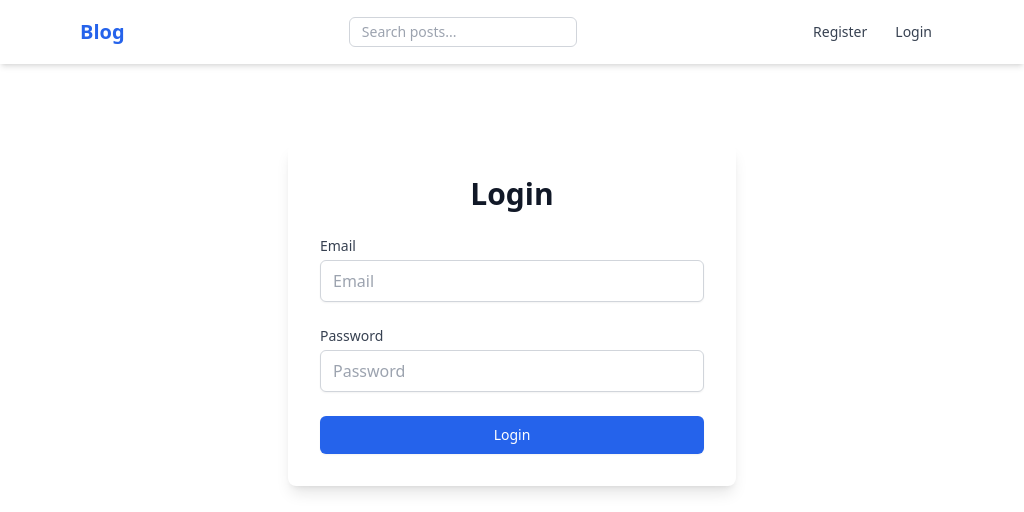
Test: Feature: Full-Text Search › allows a user to type in the navbar search, press Enter, and see results
// Find the (not-yet-created) search bar in the navbar
Type "pipeline" into the search field named "search" at (463, 32), box [349,17,577,47]
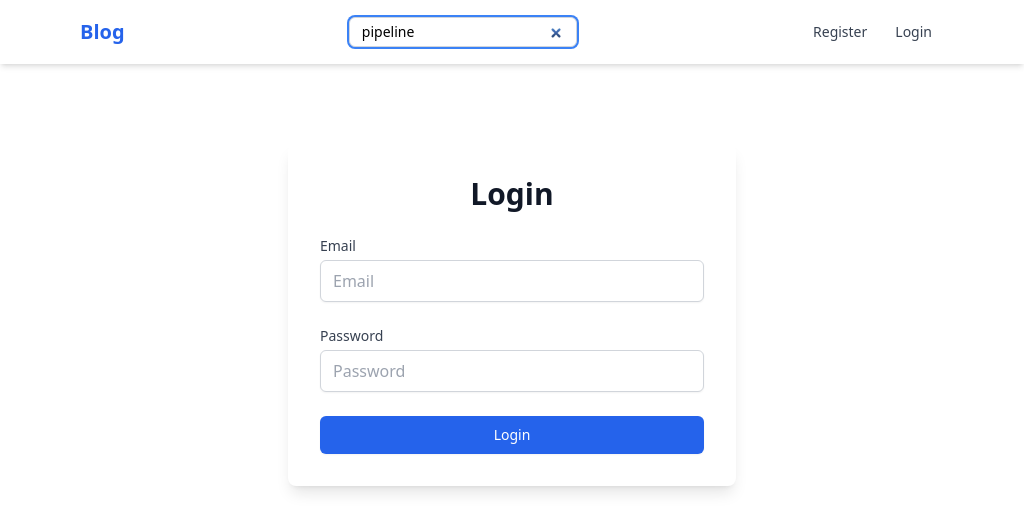
// Press Enter to submit
Press Enter in the search field named "search", box [349,17,577,47]
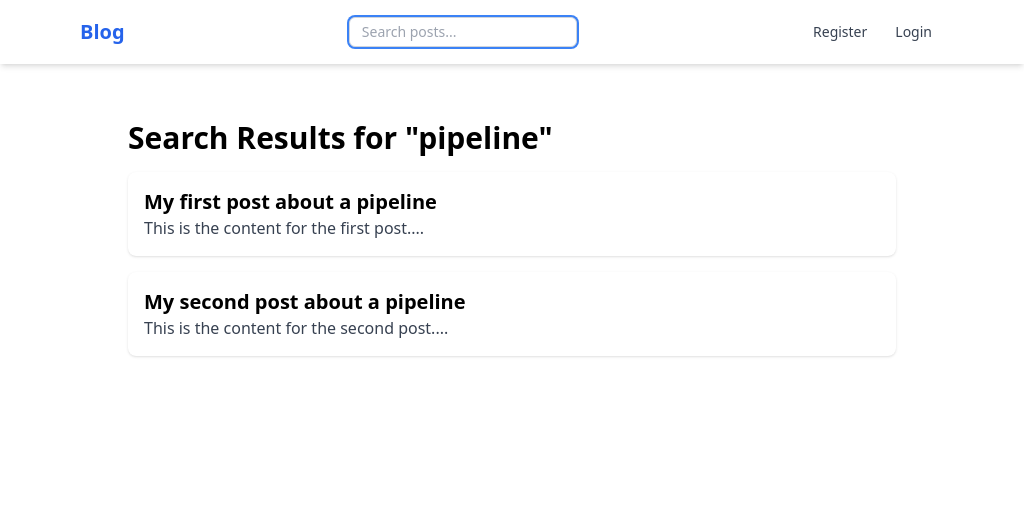
Check: the heading "Search Results for \"pipeline\"" is shown, box [128,117,553,158]
Check: the heading "My first post about a pipeline" is shown, box [144,188,437,215]
Check: the heading "My second post about a pipeline" is shown, box [144,288,466,315]
